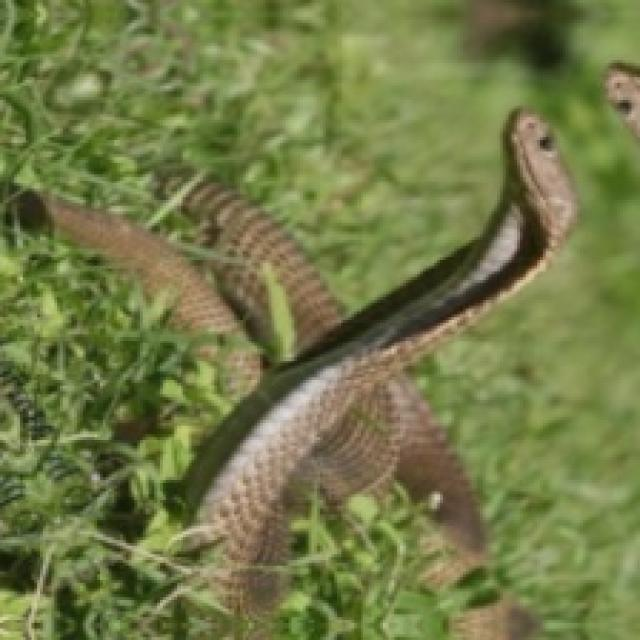philippine cobra: (17, 109, 574, 614), (603, 63, 637, 137)
